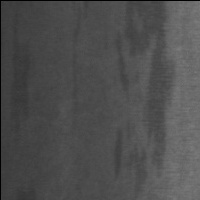inclusion: (113, 1, 178, 191), (6, 10, 37, 134), (68, 2, 92, 103), (107, 125, 126, 185)
